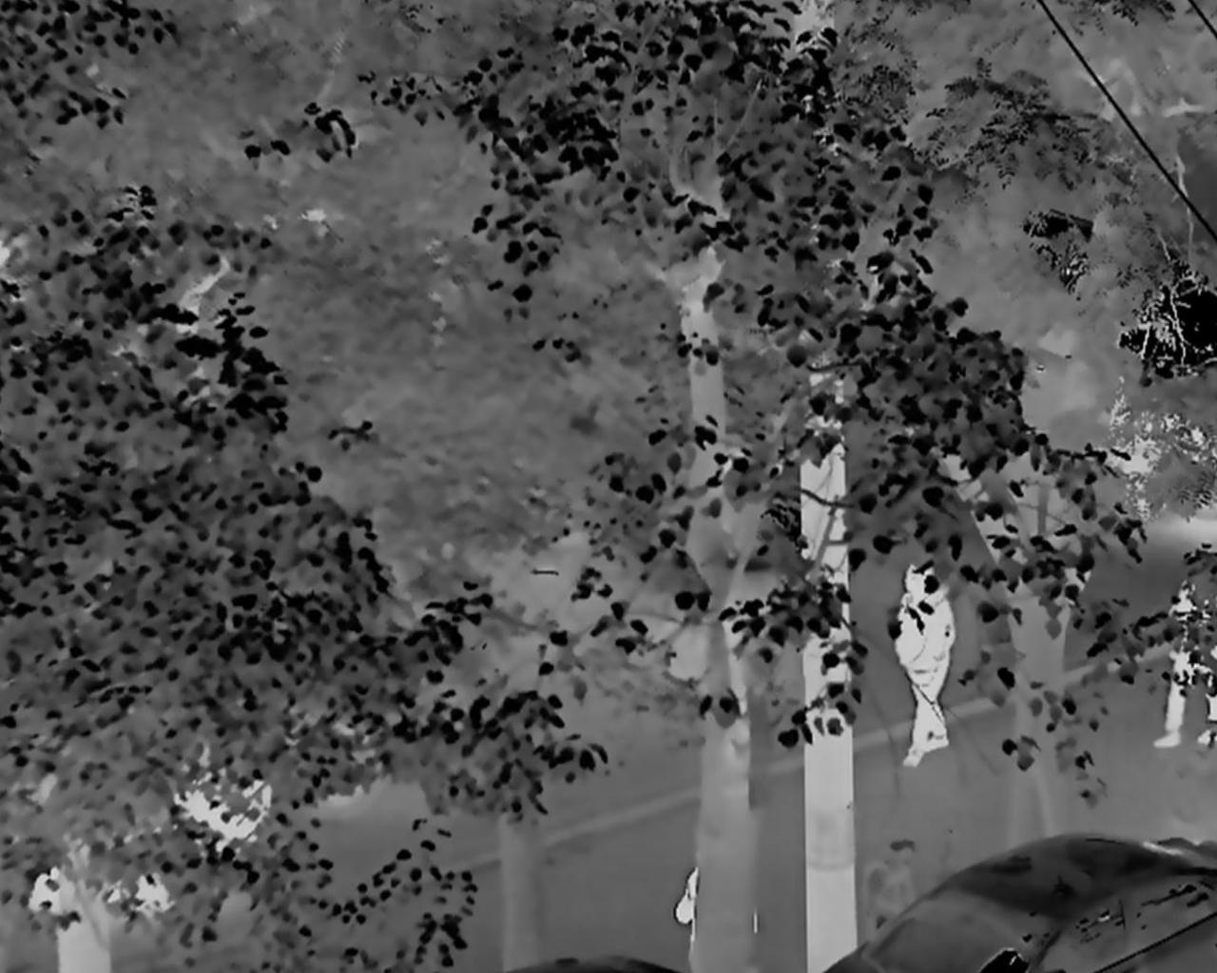person: (891, 555, 956, 766), (1156, 560, 1217, 747)
